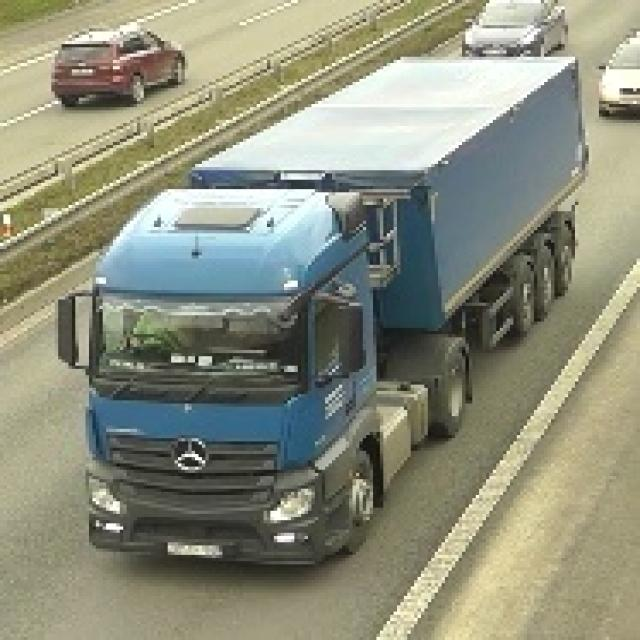SUV: (52, 26, 188, 112)
TRUCK: (74, 64, 597, 574)
